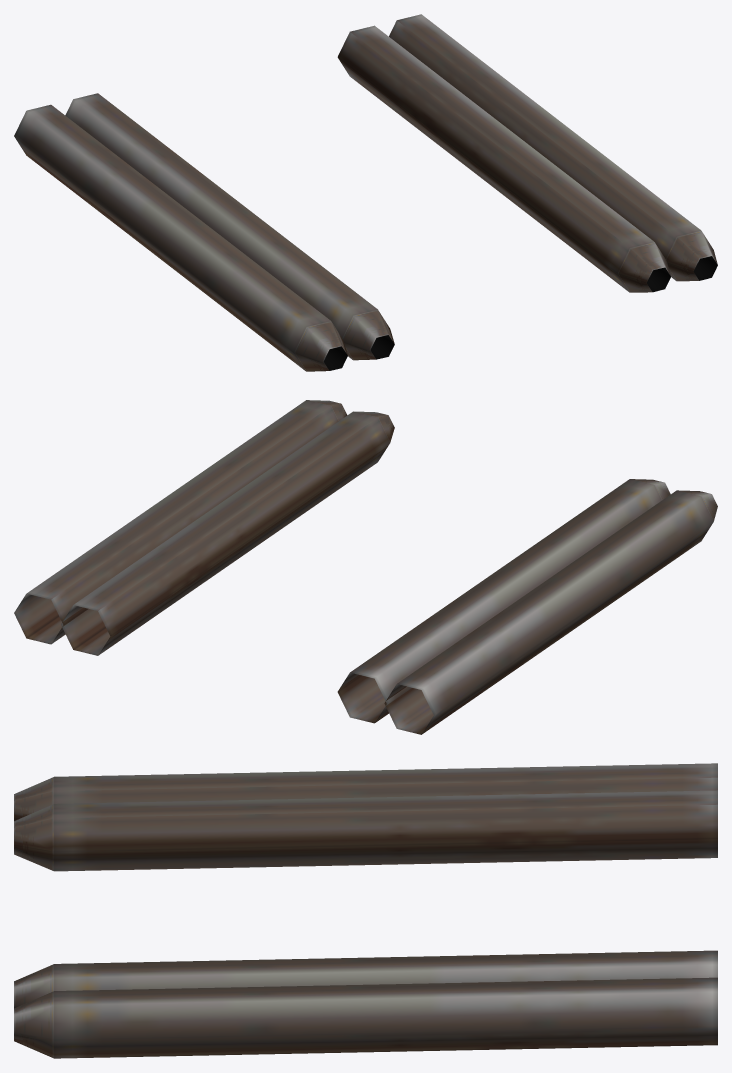
File: exh_lr_rem2.glb
The picture shows the model from 3 angles, top to bottom: view 1: azimuth 30°, elevation 25°; view 2: azimuth 150°, elevation 25°; view 3: azimuth 270°, elevation 25°; orthographic projection. The views are drawn at different scales.
Parts seen in each view (by area): view 1: exh_lr_rem2; view 2: exh_lr_rem2; view 3: exh_lr_rem2.
Part boxes in pixels (<box>): exh_lr_rem2: <box>14,14,717,371</box>; exh_lr_rem2: <box>14,400,717,734</box>; exh_lr_rem2: <box>14,763,717,1058</box>.
Size of the model in its own units: 1.24 by 0.1592 by 1.52.
1 material, 1 textured.
